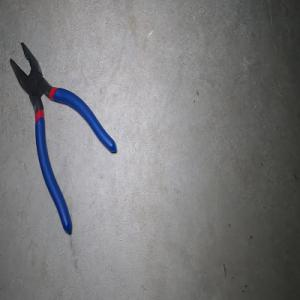Pliers: (9, 41, 116, 234)
